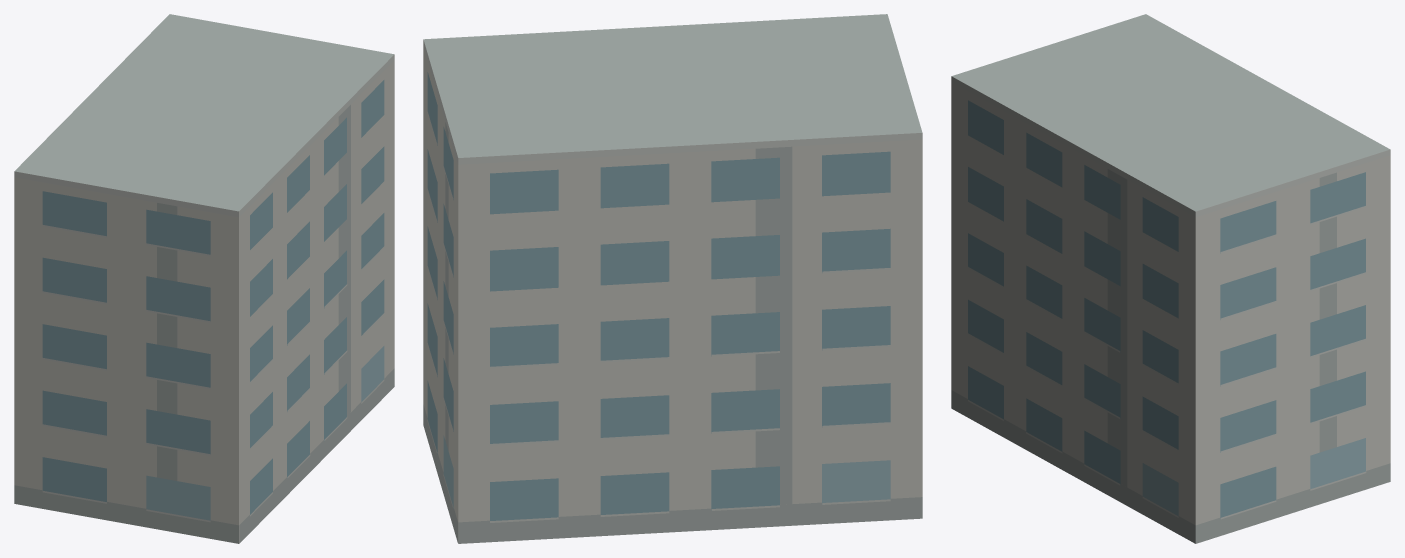
The model's file is survey-upis-32843147.glb.
The picture shows the model from 3 angles, left to right: view 1: azimuth 30°, elevation 25°; view 2: azimuth 150°, elevation 25°; view 3: azimuth 270°, elevation 25°; orthographic projection. The views are drawn at different scales.
Parts seen in each view (by area): view 1: survey-upis-32843147.tmp; view 2: survey-upis-32843147.tmp; view 3: survey-upis-32843147.tmp.
Boxes of the visible parts, x1,y1,x2,y2 form: survey-upis-32843147.tmp: (14, 14, 394, 543); survey-upis-32843147.tmp: (423, 14, 922, 543); survey-upis-32843147.tmp: (951, 14, 1390, 543).
Bounding box in the file's own units: 17.48 × 13.7 × 16.42.
